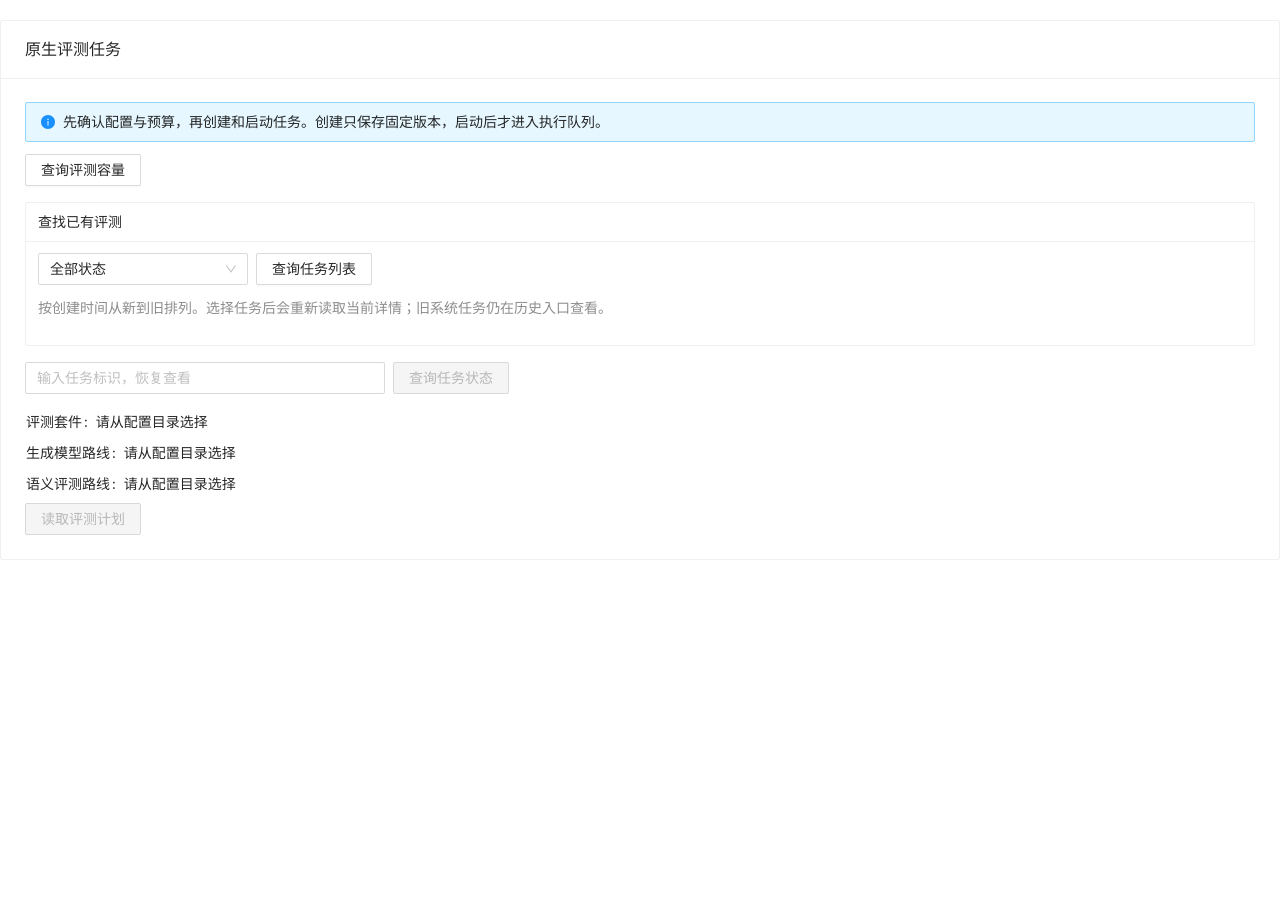
requires a fresh read after a definite rejection
Type "44444444-4444-4444-8444-444444444444" into the field named "评测任务标识" at (205, 378), box [25,362,385,394]
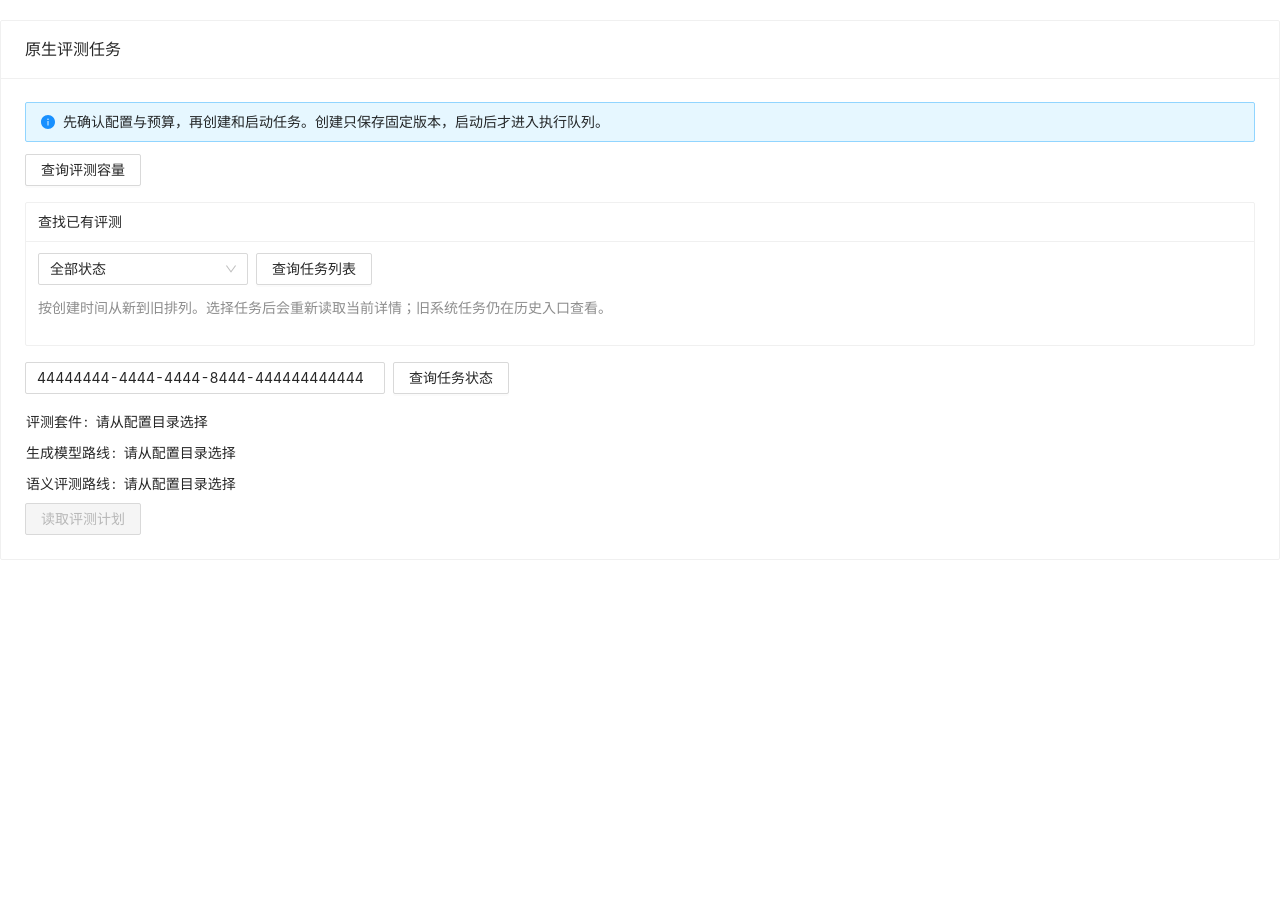
Click the button "查询任务状态" at (451, 378), box [393,362,509,394]
(page scrolled)
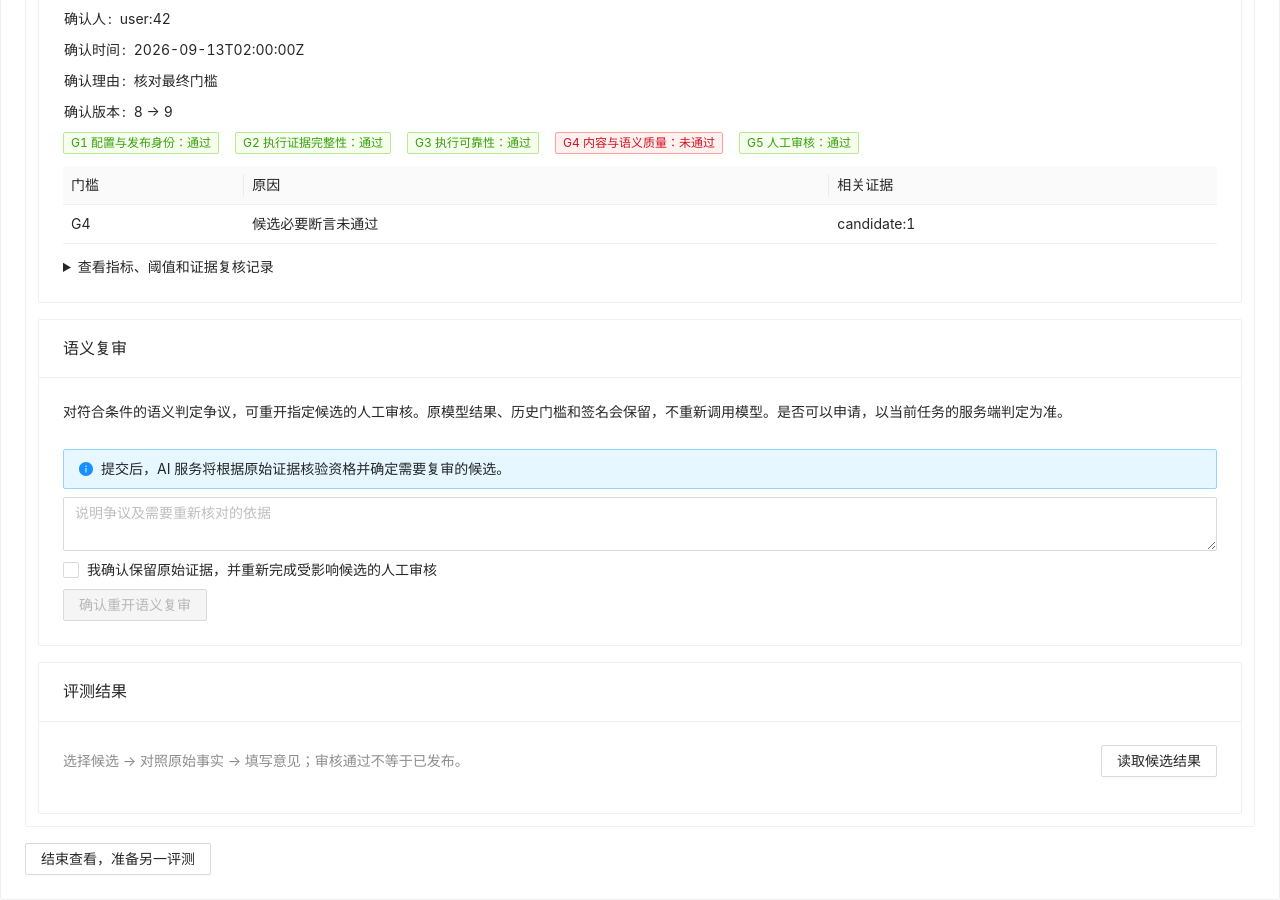
Check: the text box named "重开复审理由" is shown
Type "  复核语义判定  " into the text box named "重开复审理由" at (640, 524), box [63,497,1217,551]
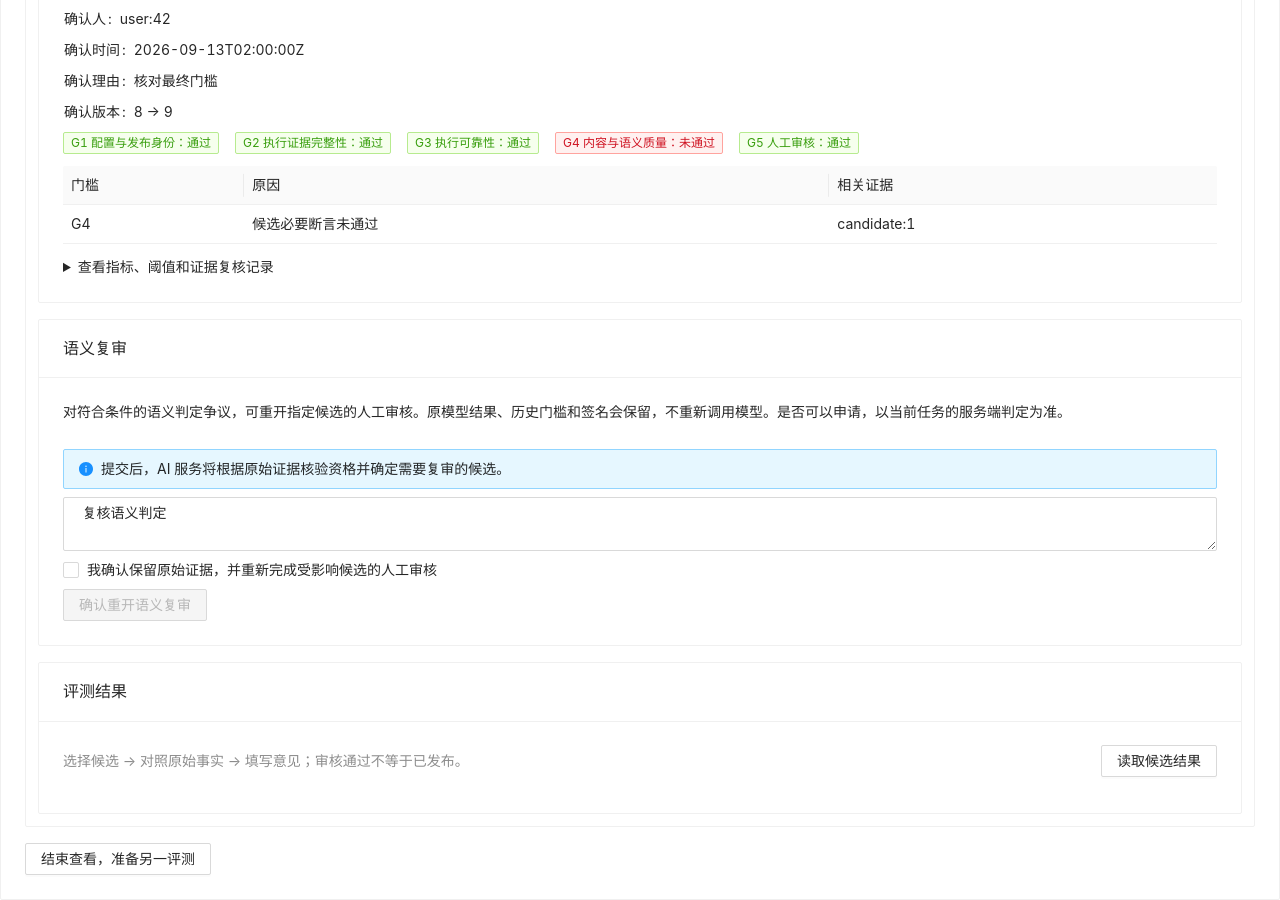
Click the checkbox labelled "我确认保留原始证据，并重新完成受影响候选的人工审核" at (254, 570), box [63,559,445,581]
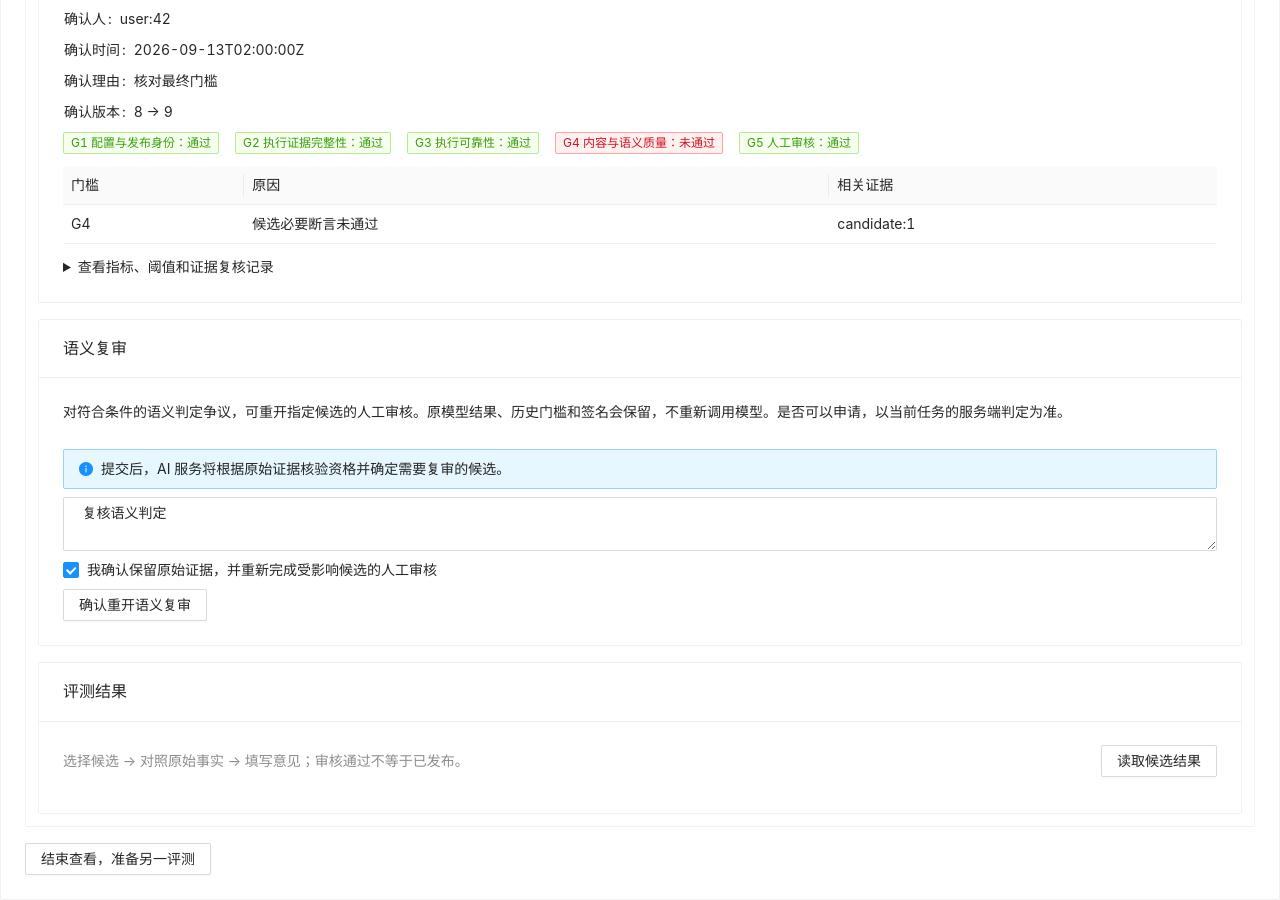
Click the button "确认重开语义复审" at (135, 605), box [63,589,207,621]
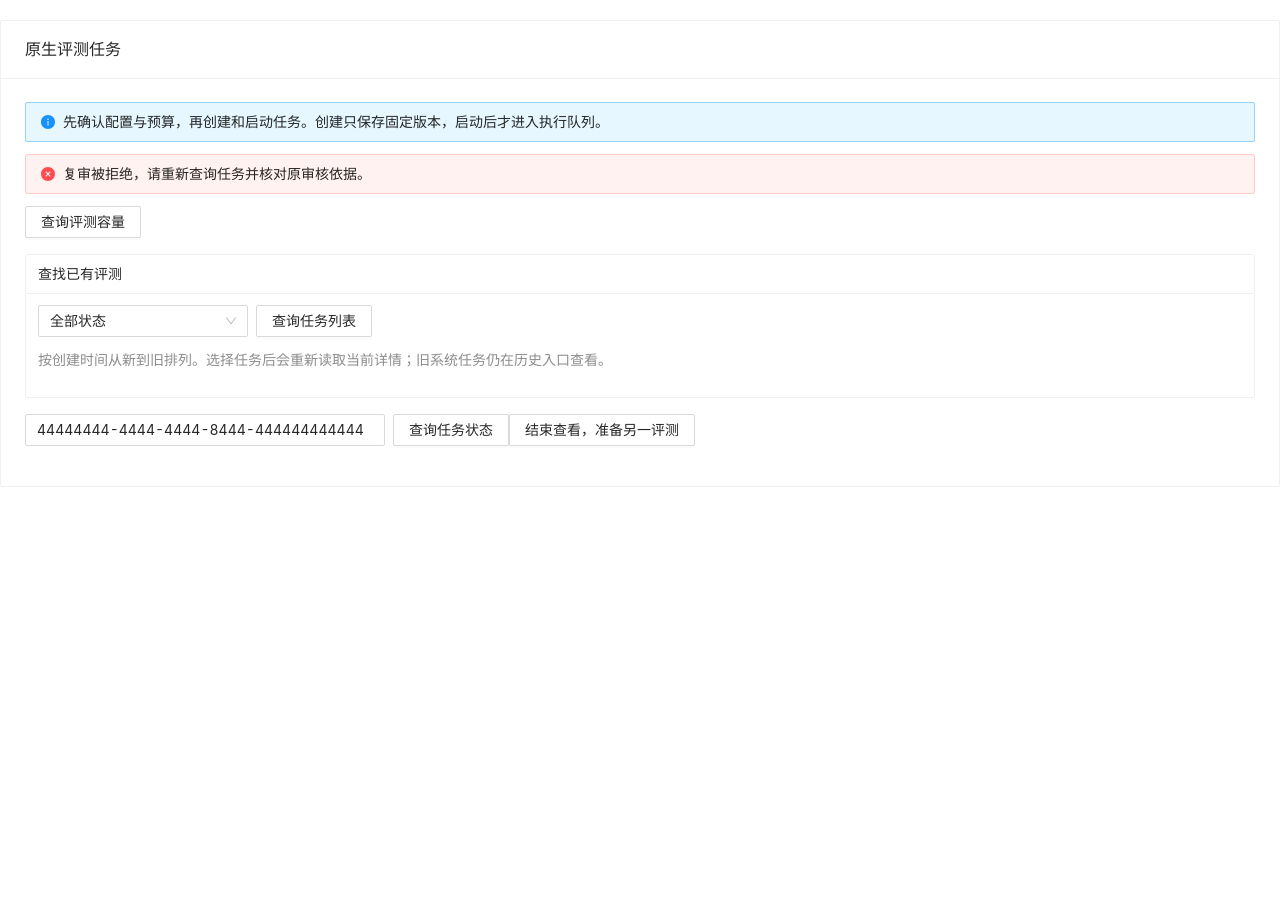
Check: the text "复审被拒绝，请重新查询任务并核对原审核依据。" is shown, box [63,165,371,182]
Check: the text box labelled "重开复审理由" is gone
